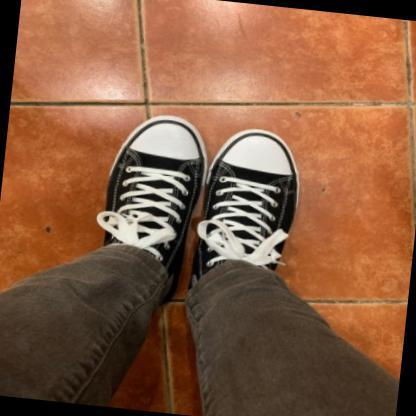no_safety-shoe: (205, 99, 310, 305), (97, 105, 207, 284)
